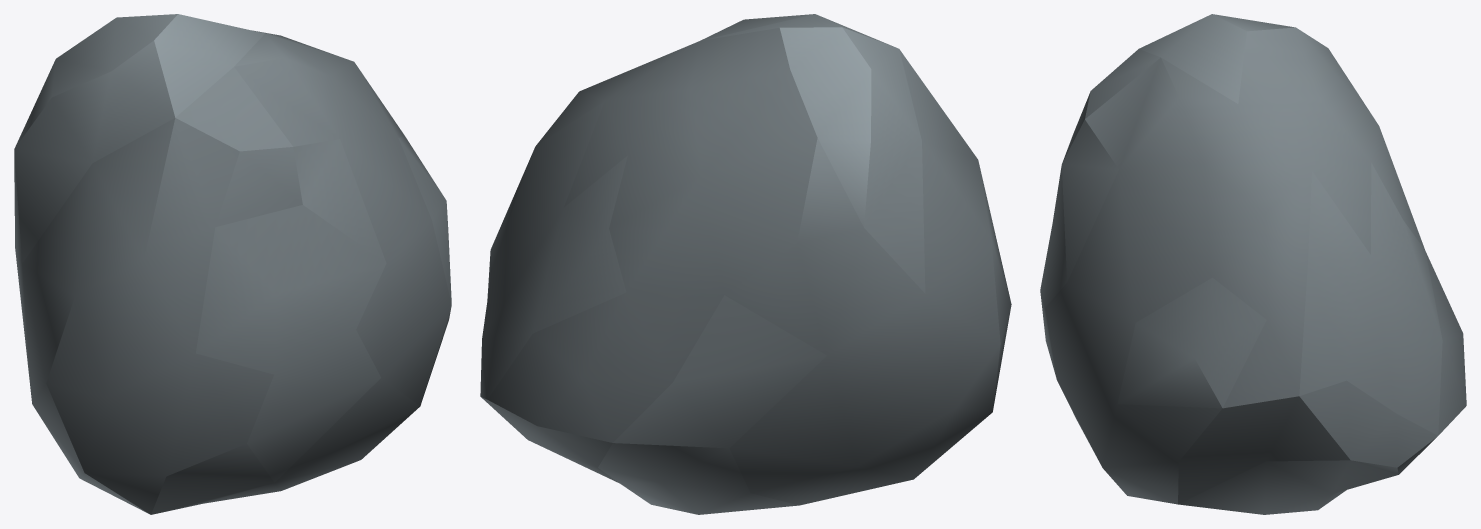
Rendered from gros-rocher.glb.
The picture shows the model from 3 angles, left to right: view 1: azimuth 30°, elevation 25°; view 2: azimuth 150°, elevation 25°; view 3: azimuth 270°, elevation 25°; orthographic projection. The views are drawn at different scales.
Parts seen in each view (by area): view 1: Rock_3_H_Color1; view 2: Rock_3_H_Color1; view 3: Rock_3_H_Color1.
Part boxes in pixels (x1=…): Rock_3_H_Color1: x1=14, y1=14, x2=451, y2=514; Rock_3_H_Color1: x1=480, y1=14, x2=1011, y2=514; Rock_3_H_Color1: x1=1040, y1=14, x2=1466, y2=514.
Bounding box in the file's own units: 1.95 × 2.06 × 1.76.
1 material, 1 textured.
